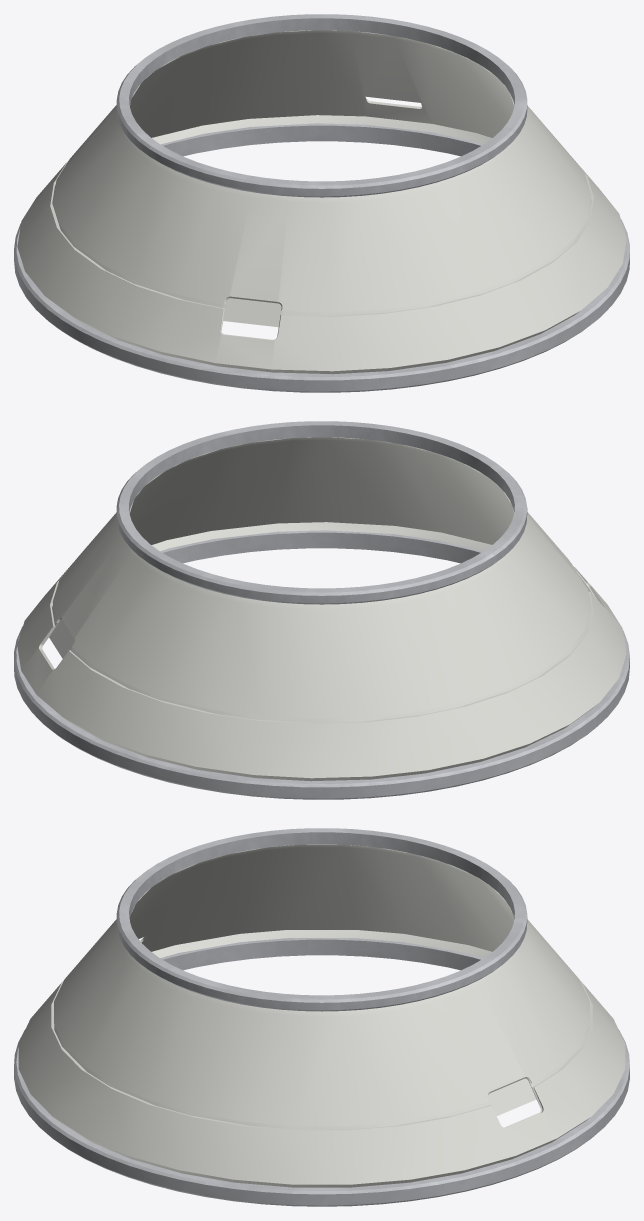
File: ax_struct_04_adapter_xl_xxl.glb
3 views of the same model, one above another, from view 1: azimuth 30°, elevation 25°; view 2: azimuth 150°, elevation 25°; view 3: azimuth 270°, elevation 25° (orthographic).
Parts seen in each view (by area): view 1: adapter_shell, interface_rings; view 2: adapter_shell, interface_rings; view 3: adapter_shell, interface_rings.
Boxes of the visible parts, bbox=[...] form: adapter_shell: bbox=[17, 30, 626, 374]; interface_rings: bbox=[14, 14, 629, 392]; adapter_shell: bbox=[17, 437, 626, 781]; interface_rings: bbox=[14, 421, 629, 799]; adapter_shell: bbox=[18, 844, 625, 1187]; interface_rings: bbox=[14, 828, 629, 1206].
Size of the model in its own units: 7.5 by 2.2 by 7.5.
2 materials, 1 textured.
